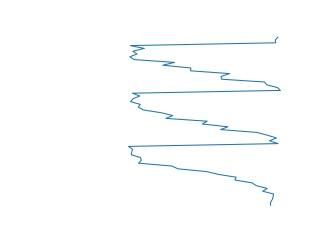distributaryMouthBar: (126, 35, 281, 206)
